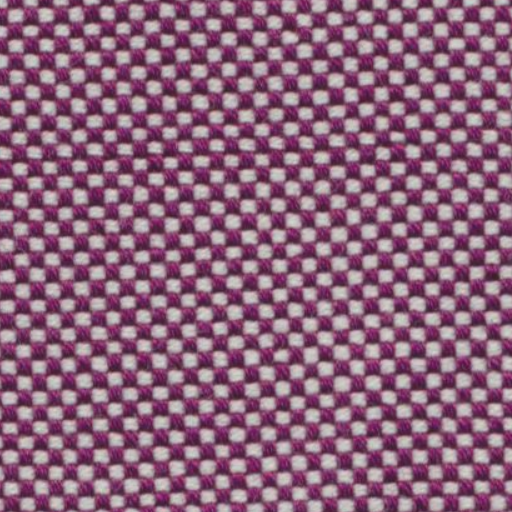TuoSha: (9, 126, 500, 198)
